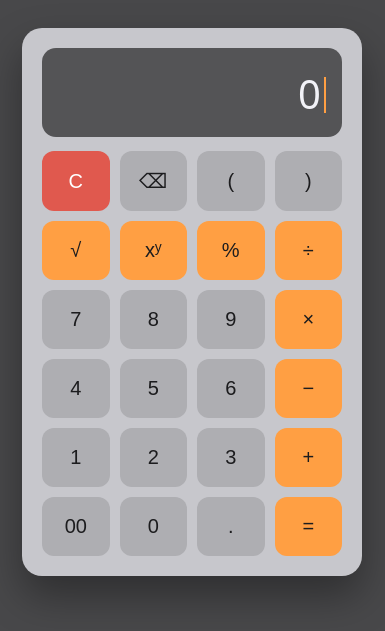
Test: Calculator › shows sqrt as √16 with its value already previewed
Click the button "1" at (76, 458), box left=42, top=428, right=110, bottom=487
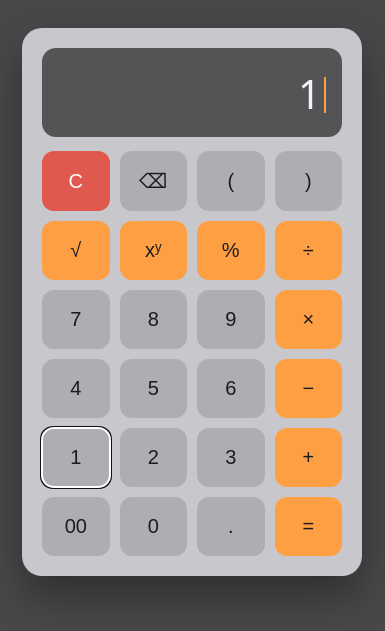
Click the button "6" at (231, 388), box left=197, top=359, right=264, bottom=418
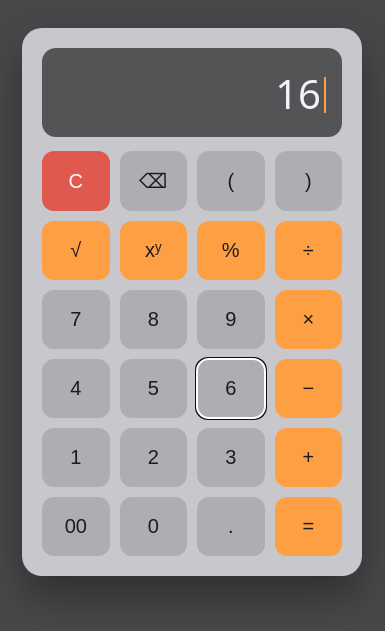
Click the button named "Square root" at (76, 250), box left=42, top=221, right=110, bottom=280
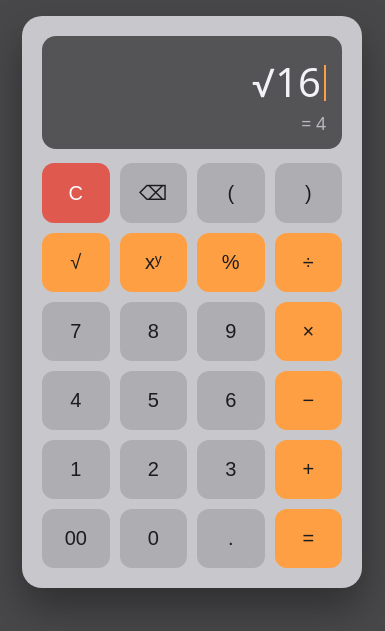
Expected: the message with test id "display-expression" reads "√16", left=251, top=54, right=321, bottom=109
Expected: the text with test id "display-preview" reads "= 4", left=301, top=111, right=326, bottom=135
